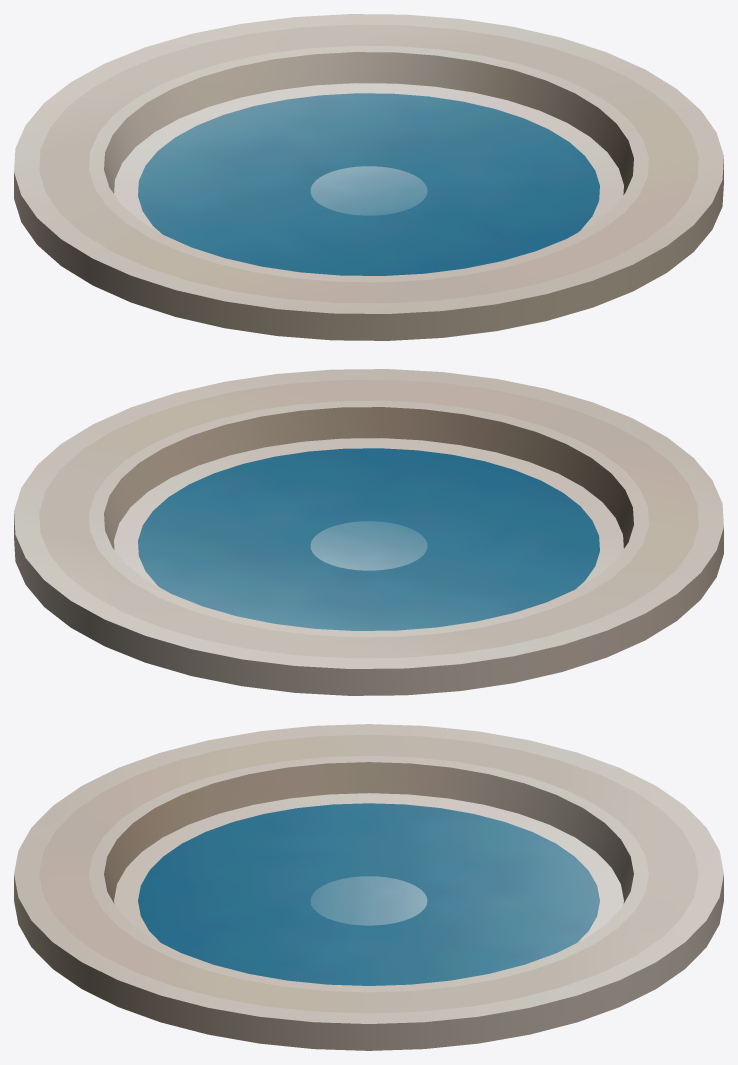
File: M_Basin_02.fbx
3 views of the same model, one above another, from view 1: azimuth 30°, elevation 25°; view 2: azimuth 150°, elevation 25°; view 3: azimuth 270°, elevation 25° (orthographic).
Visible parts, largest first — view 1: M_Basin_02; view 2: M_Basin_02; view 3: M_Basin_02.
Part boxes in pixels (x1,y1,x2,y2): M_Basin_02: [14, 14, 723, 340]; M_Basin_02: [14, 369, 723, 695]; M_Basin_02: [14, 724, 723, 1050].
Size of the model in its own units: 498 by 20.78 by 498.
1 material, 1 textured.
